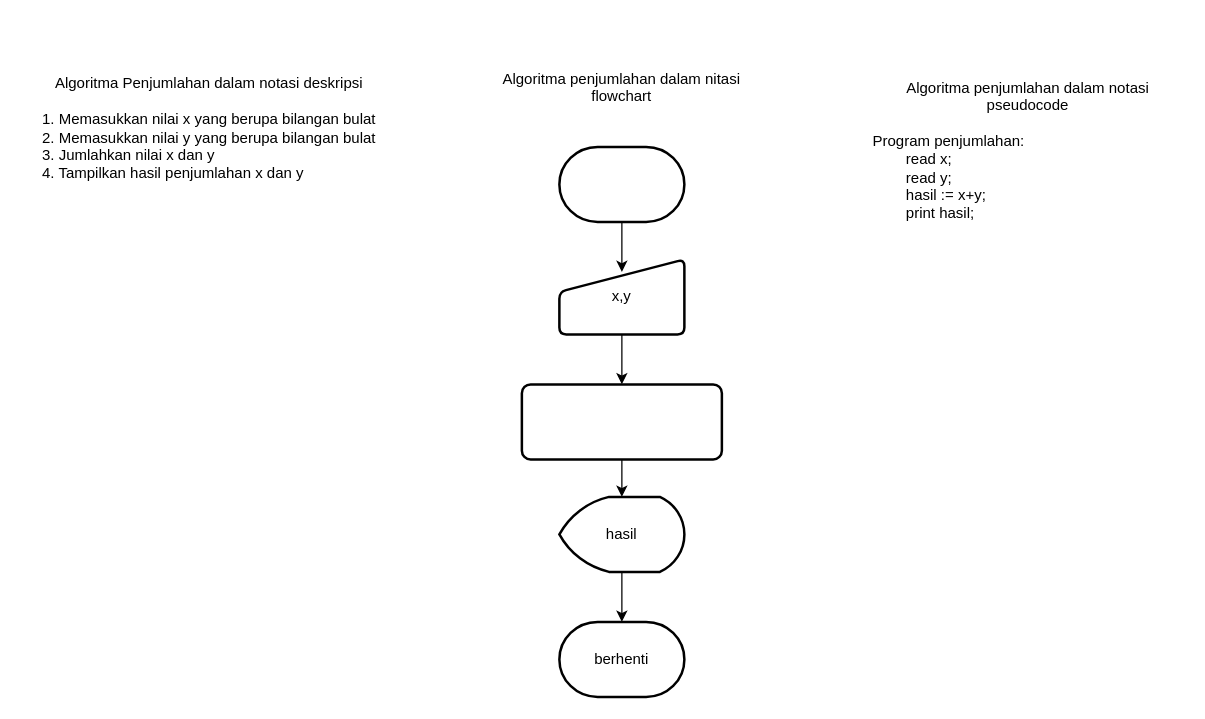
The diagram is 1205 pixels wide and 719 high, and some of its shapes have lost their labels. Here are the shapes that lost their labels. From the top down, the box of each, then its label:
(558, 145, 685, 222): mulai
(520, 382, 722, 460): Hasil = x + y
